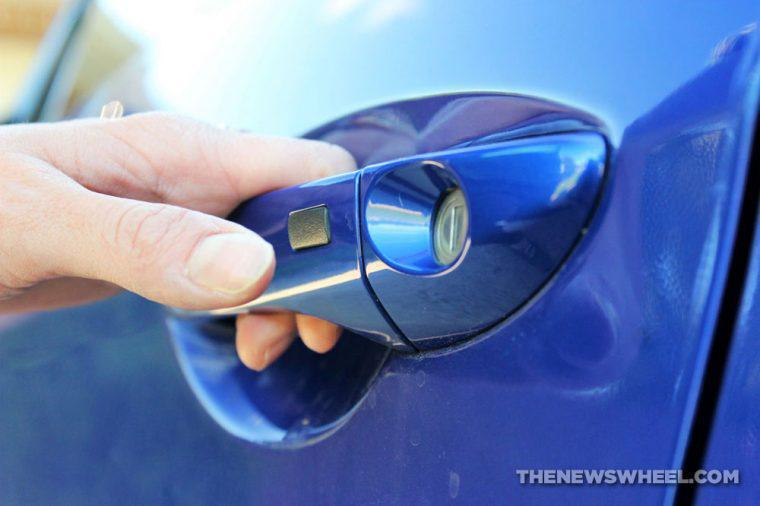doorhandle: (126, 106, 636, 371)
